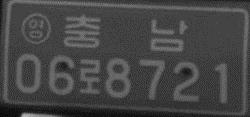0: (15, 53, 42, 94)
1: (209, 62, 237, 105)
2: (172, 60, 200, 102)
6: (48, 55, 74, 96)
7: (138, 58, 165, 101)
8: (104, 58, 132, 98)
로: (78, 58, 101, 95)
영: (20, 12, 51, 44)
충남_D: (63, 14, 187, 52)
